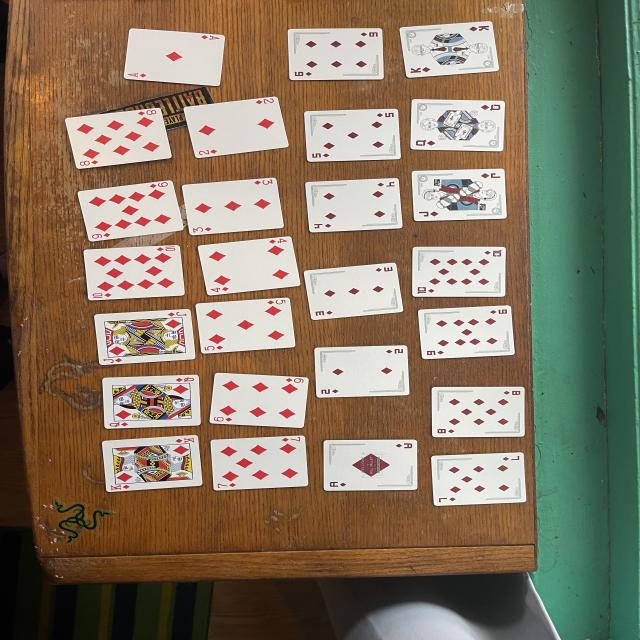10 of diamonds: (83, 245, 185, 300), (412, 246, 505, 298)
2 of diamonds: (183, 98, 288, 158), (315, 345, 410, 398)
3 of diamonds: (182, 178, 283, 235), (305, 262, 403, 320)
4 of diamonds: (198, 236, 300, 295), (305, 178, 402, 232)
5 of diamonds: (195, 298, 295, 354), (303, 109, 400, 162)
6 of diamonds: (210, 372, 308, 428), (288, 29, 383, 80)
7 of diamonds: (210, 435, 308, 490), (432, 452, 527, 506)
8 of diamonds: (65, 109, 172, 169), (432, 386, 525, 438)
9 of diamonds: (77, 181, 183, 241), (418, 305, 515, 359)
Ace of diamonds: (123, 29, 225, 86), (323, 440, 418, 491)
Jack of diamonds: (95, 309, 195, 365), (412, 169, 507, 221)
King of diamonds: (400, 21, 500, 79), (102, 435, 202, 492)
Queen of diamonds: (102, 375, 200, 429), (410, 99, 505, 151)
